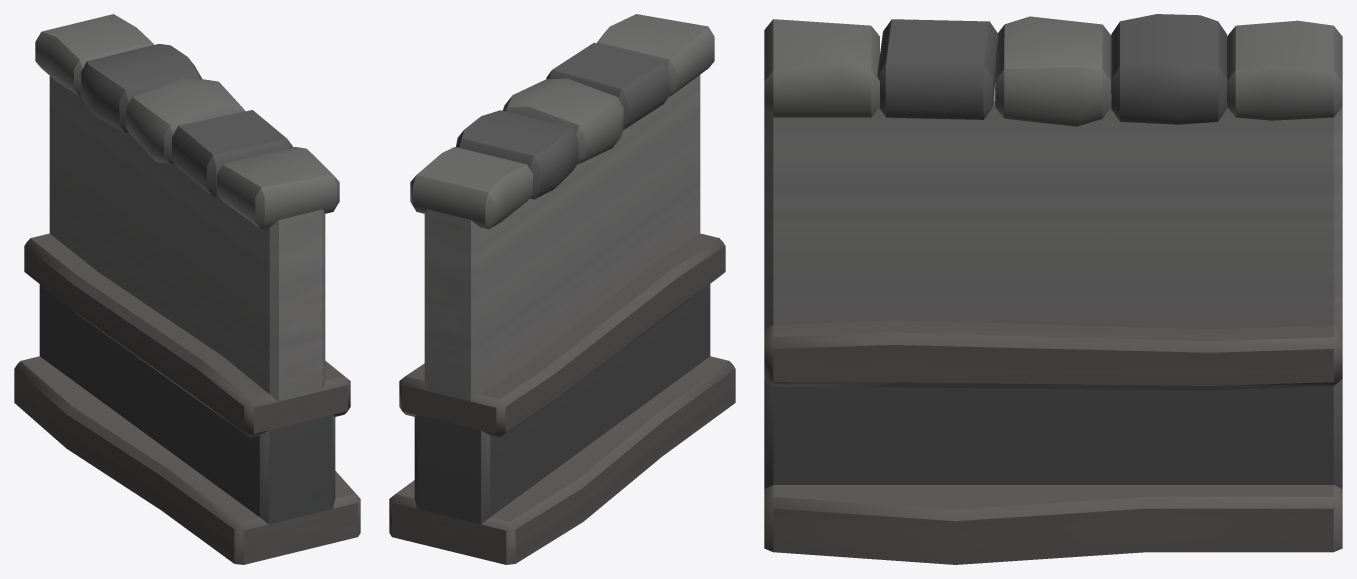
The model's file is Wall_1_2.glb.
The picture shows the model from 3 angles, left to right: view 1: azimuth 30°, elevation 25°; view 2: azimuth 150°, elevation 25°; view 3: azimuth 270°, elevation 25°; orthographic projection. The views are drawn at different scales.
Parts seen in each view (by area): view 1: Wall_1_2; view 2: Wall_1_2; view 3: Wall_1_2.
Boxes of the visible parts, box(x1,y1,x2,y2) form: Wall_1_2: box(14, 14, 360, 564); Wall_1_2: box(389, 14, 735, 564); Wall_1_2: box(764, 14, 1342, 564).
Size of the model in its own units: 0.7661 by 1.78 by 1.95.
Materials: 1 (1 with a texture image).
